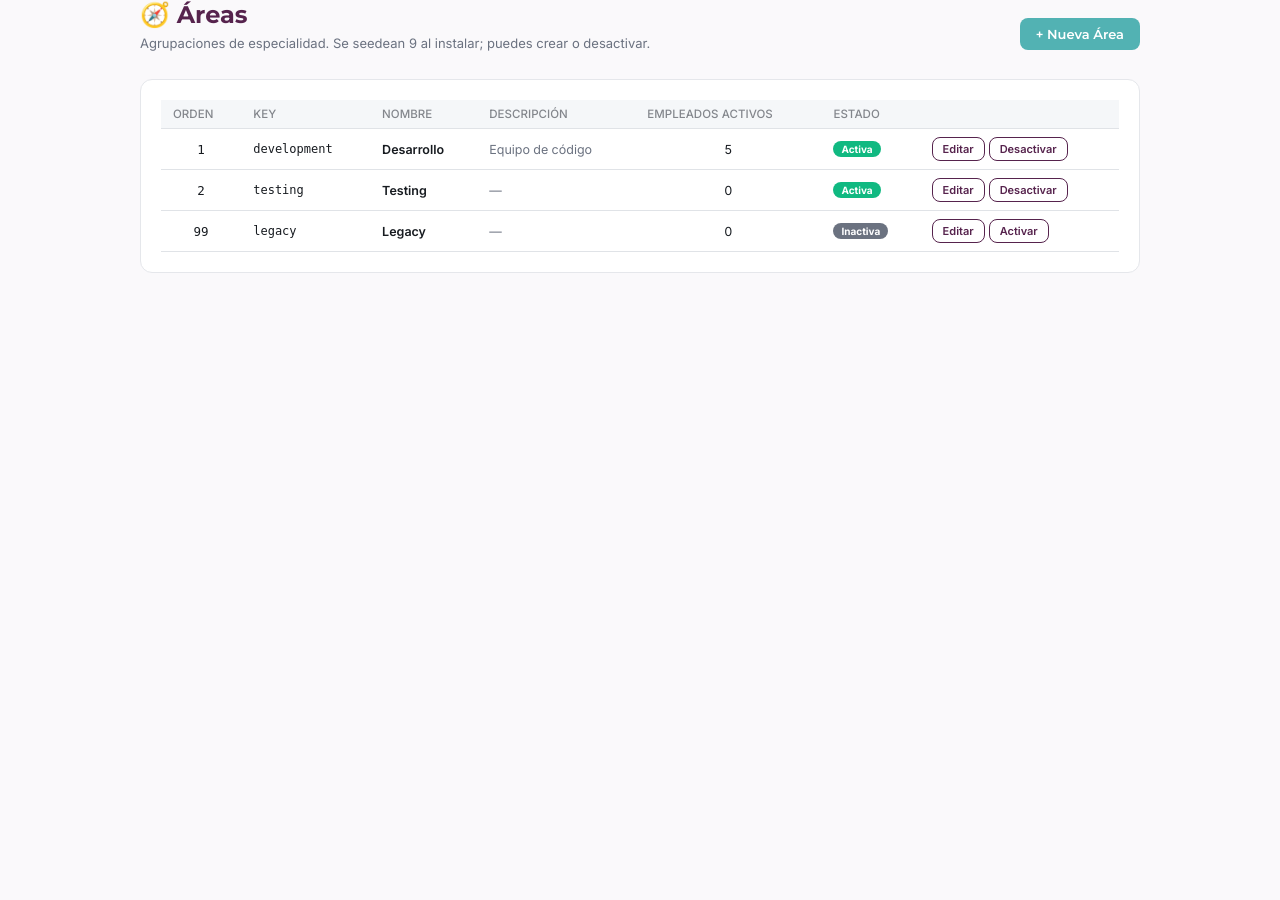
Areas module › opens edit modal with prefilled values and disables key field
Expected: the text "Desarrollo" is shown, [370,128,477,170]
Click the button with aria-label "Editar Desarrollo" at (958, 149), box [932,137,985,161]
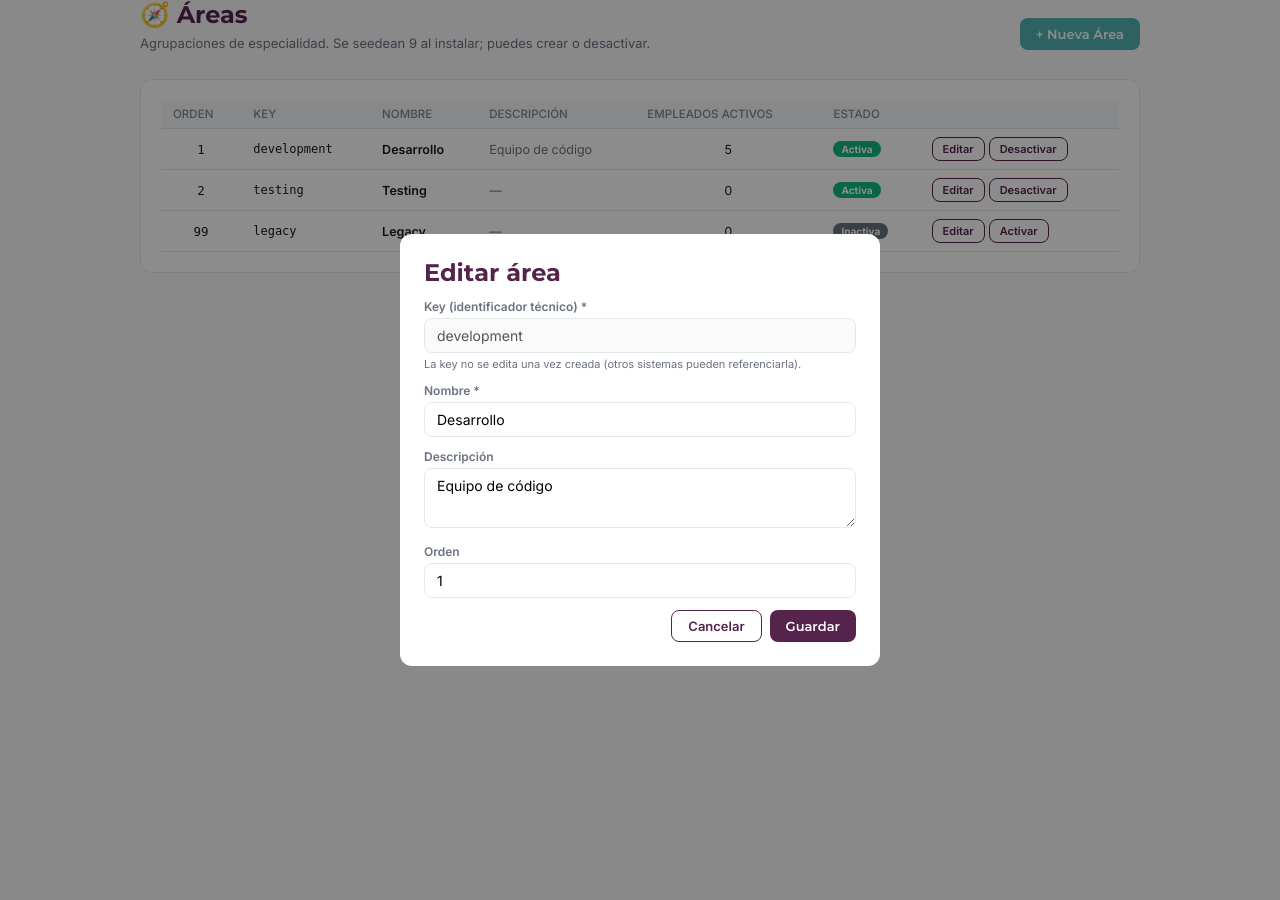
Expected: the heading "Editar área" is shown, [424,258,561,287]
Expected: the field showing "Desarrollo" is shown, [424,402,856,437]
Expected: the field named "Key" is disabled, [424,318,856,353]
